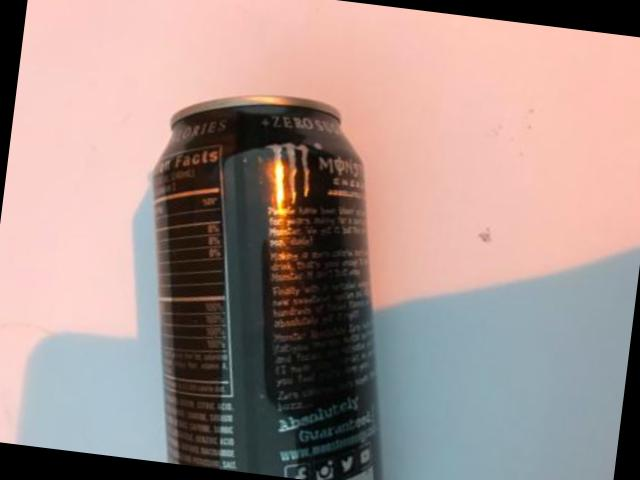metal: (151, 95, 377, 480)
